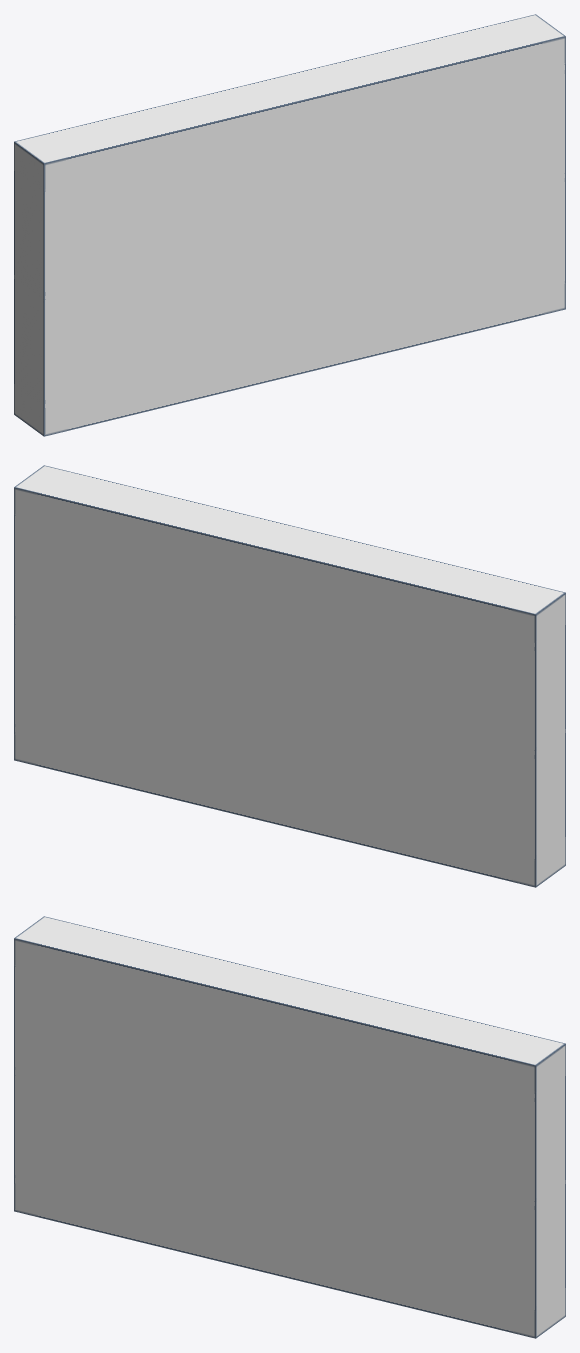
The model's file is Presentation.fbx.
3 views of the same model, one above another, from view 1: azimuth 30°, elevation 25°; view 2: azimuth 150°, elevation 25°; view 3: azimuth 330°, elevation 25° (orthographic).
Visible parts, largest first — view 1: Presentation; view 2: Presentation; view 3: Presentation.
Boxes of the visible parts, x1,y1,x2,y2 form: Presentation: [14, 14, 565, 436]; Presentation: [14, 465, 565, 887]; Presentation: [14, 916, 565, 1338].
Size of the model in its own units: 10 by 5 by 1.
1 material, 1 textured.
